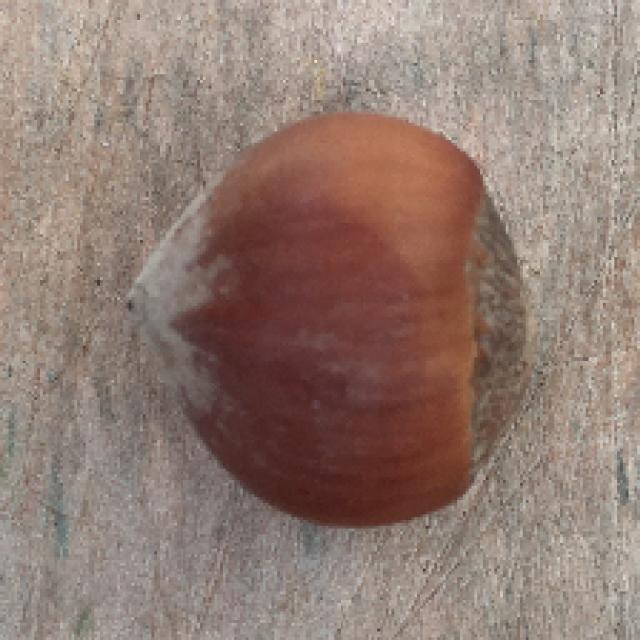DamagedHazelnut: (125, 109, 538, 533)
